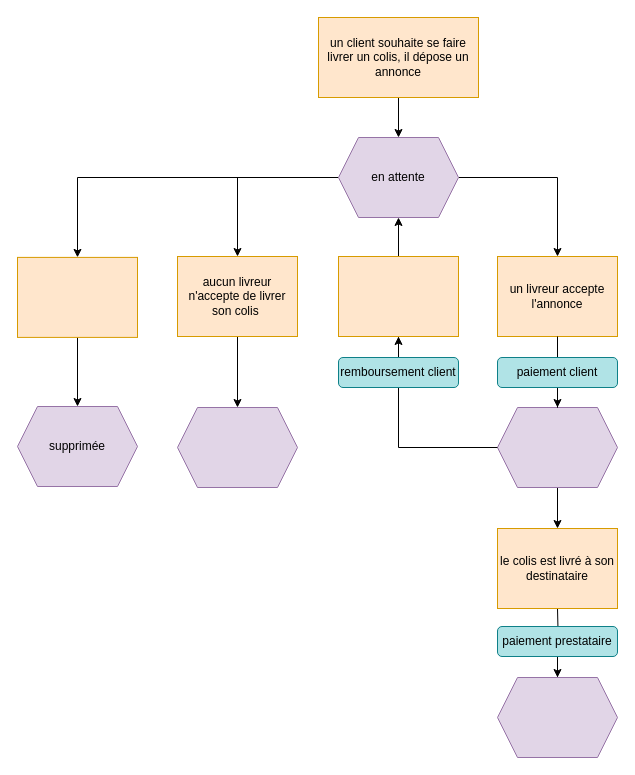
This 635x775 diagram has some shape labels left out. The shapes that lost their labels are listed below. From the top down, each one's box as (x1, y1, x2, y2) in pixels, then its label:
(16, 256, 138, 337): le client souhaite supprimer son annonce
(338, 256, 458, 336): le livreur se rétracte
(176, 406, 298, 488): refusée
(496, 406, 618, 488): acceptée
(496, 676, 618, 758): terminée
